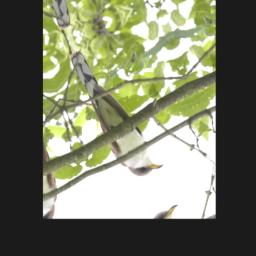Cuckoo: (69, 31, 165, 190)
